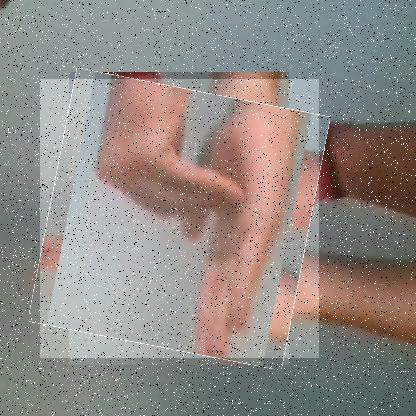Z: (39, 79, 319, 359)
